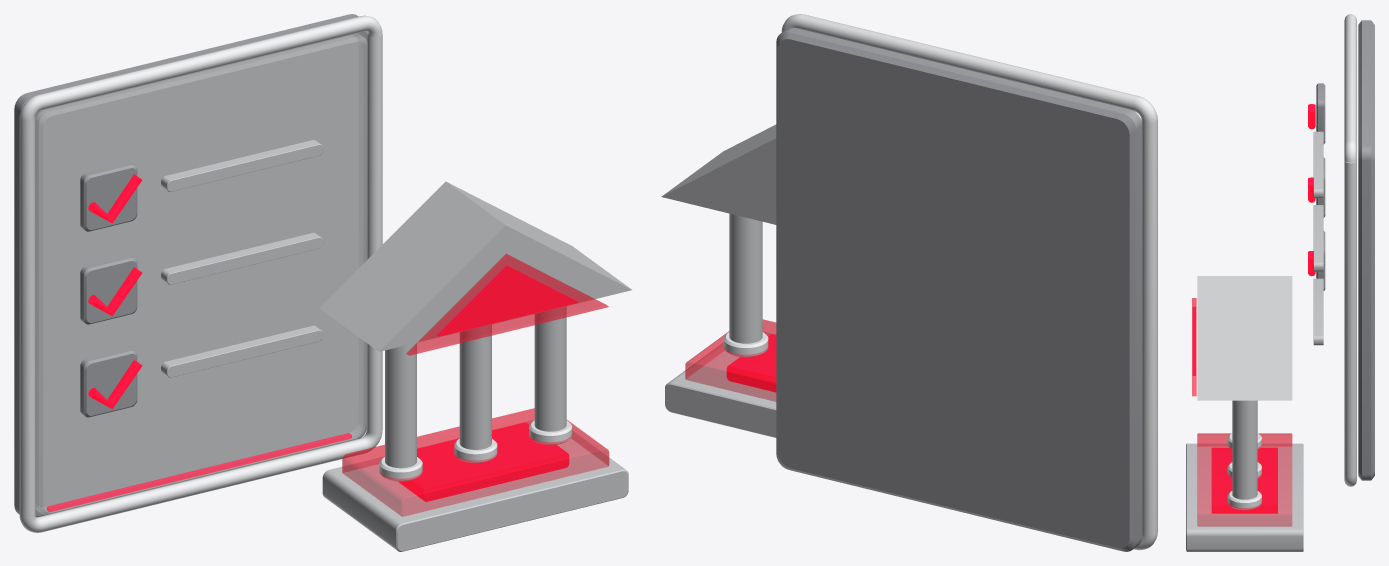
The model's file is 03-data-governance.glb.
3 views of the same model, side by side, from view 1: azimuth 30°, elevation 25°; view 2: azimuth 150°, elevation 25°; view 3: azimuth 270°, elevation 25° (orthographic). The views are drawn at different scales.
Visible parts, largest first — view 1: BC brushed iron, BC clear optical glass, BC satin iron, BC polished iron bevel, BC ruby optical glass, BC internal ruby light; view 2: BC brushed iron, BC satin iron, BC polished iron bevel, BC ruby optical glass, BC internal ruby light; view 3: BC satin iron, BC brushed iron, BC ruby optical glass, BC polished iron bevel, BC internal ruby light.
Part boxes in pixels (x1,y1,x2,y2): BC brushed iron: [14, 14, 366, 517]; BC clear optical glass: [35, 33, 367, 515]; BC satin iron: [161, 140, 631, 551]; BC polished iron bevel: [19, 15, 572, 532]; BC ruby optical glass: [342, 254, 609, 516]; BC internal ruby light: [46, 174, 578, 512]; BC brushed iron: [776, 27, 1142, 551]; BC satin iron: [661, 124, 776, 437]; BC polished iron bevel: [723, 14, 1157, 550]; BC ruby optical glass: [685, 319, 776, 401]; BC internal ruby light: [726, 334, 776, 392]; BC satin iron: [1186, 131, 1323, 551]; BC brushed iron: [1316, 20, 1374, 480]; BC ruby optical glass: [1192, 298, 1292, 526]; BC polished iron bevel: [1227, 14, 1356, 510]; BC internal ruby light: [1192, 104, 1315, 513].
Bounding box in the file's own units: 2.11 × 1.73 × 0.846.
